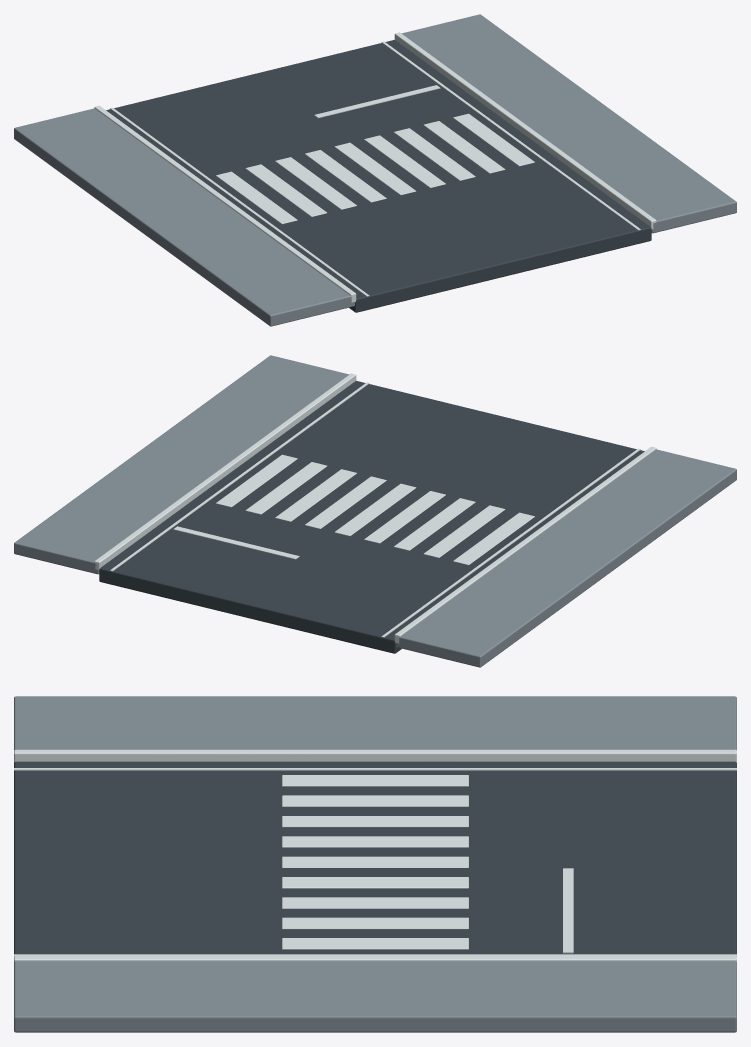
Rendered from Road_Crosswalk12.fbx.
3 views of the same model, one above another, from view 1: azimuth 30°, elevation 25°; view 2: azimuth 150°, elevation 25°; view 3: azimuth 270°, elevation 25° (orthographic). The views are drawn at different scales.
Parts seen in each view (by area): view 1: Road_Deck, Sidewalk, Sidewalk.001, Curb.001, Curb, Crosswalk_Stripe.004, Crosswalk_Stripe.006, Crosswalk_Stripe, Crosswalk_Stripe.002, Crosswalk_Stripe.008, Crosswalk_Stripe.001, Crosswalk_Stripe.003 (+5 smaller); view 2: Road_Deck, Sidewalk, Sidewalk.001, Curb.001, Curb, Crosswalk_Stripe.004, Crosswalk_Stripe.006, Crosswalk_Stripe, Crosswalk_Stripe.002, Crosswalk_Stripe.008, Crosswalk_Stripe.001, Crosswalk_Stripe.003 (+5 smaller); view 3: Road_Deck, Sidewalk.001, Sidewalk, Curb, Curb.001, Crosswalk_Stripe.007, Crosswalk_Stripe, Crosswalk_Stripe.001, Crosswalk_Stripe.002, Crosswalk_Stripe.003, Crosswalk_Stripe.004, Crosswalk_Stripe.005 (+5 smaller).
Part boxes in pixels (<box>): Road_Deck: <box>106,40,651,312</box>; Sidewalk: <box>14,108,354,326</box>; Sidewalk.001: <box>401,14,736,233</box>; Curb.001: <box>394,32,656,229</box>; Curb: <box>94,105,356,302</box>; Crosswalk_Stripe.004: <box>334,142,416,195</box>; Crosswalk_Stripe.006: <box>394,128,475,180</box>; Crosswalk_Stripe: <box>216,171,297,224</box>; Crosswalk_Stripe.002: <box>275,157,356,209</box>; Crosswalk_Stripe.008: <box>453,113,534,166</box>; Crosswalk_Stripe.001: <box>245,164,326,216</box>; Crosswalk_Stripe.003: <box>305,150,386,202</box>; Road_Deck: <box>99,381,644,653</box>; Sidewalk: <box>396,449,736,667</box>; Sidewalk.001: <box>14,355,349,574</box>; Curb.001: <box>94,373,356,570</box>; Curb: <box>394,446,656,643</box>; Crosswalk_Stripe.004: <box>334,483,416,536</box>; Crosswalk_Stripe.006: <box>275,469,356,521</box>; Crosswalk_Stripe: <box>453,512,534,565</box>; Crosswalk_Stripe.002: <box>394,498,475,550</box>; Crosswalk_Stripe.008: <box>216,454,297,507</box>; Crosswalk_Stripe.001: <box>424,505,505,557</box>; Crosswalk_Stripe.003: <box>364,491,445,543</box>; Road_Deck: <box>14,761,736,954</box>; Sidewalk.001: <box>14,961,736,1032</box>; Sidewalk: <box>14,696,736,749</box>; Curb: <box>14,749,736,762</box>; Curb.001: <box>14,956,736,961</box>; Crosswalk_Stripe.007: <box>282,917,468,929</box>; Crosswalk_Stripe: <box>282,775,468,786</box>; Crosswalk_Stripe.001: <box>282,795,468,806</box>; Crosswalk_Stripe.002: <box>282,816,468,827</box>; Crosswalk_Stripe.003: <box>282,836,468,847</box>; Crosswalk_Stripe.004: <box>282,856,468,867</box>; Crosswalk_Stripe.005: <box>282,877,468,888</box>.
Bounding box in the file's own units: 1260 × 51.5 × 1200.
